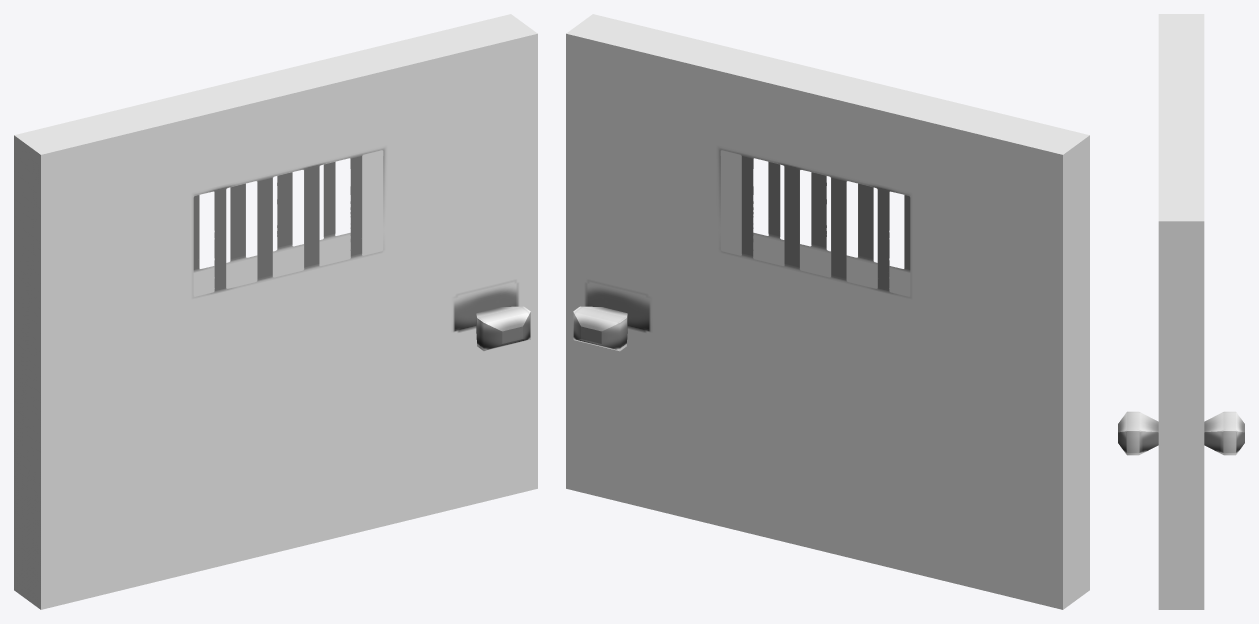
Rendered from door.fbx.
The picture shows the model from 3 angles, left to right: view 1: azimuth 30°, elevation 25°; view 2: azimuth 150°, elevation 25°; view 3: azimuth 270°, elevation 25°; orthographic projection. The views are drawn at different scales.
Visible parts, largest first — view 1: polySurface10; view 2: polySurface10; view 3: polySurface10.
Part boxes in pixels (box(x1,y1,x2,y2)): polySurface10: box(14, 14, 537, 609); polySurface10: box(566, 14, 1089, 609); polySurface10: box(1118, 14, 1244, 609).
Size of the model in its own units: 8 by 7 by 2.07.
1 material, 1 textured.
